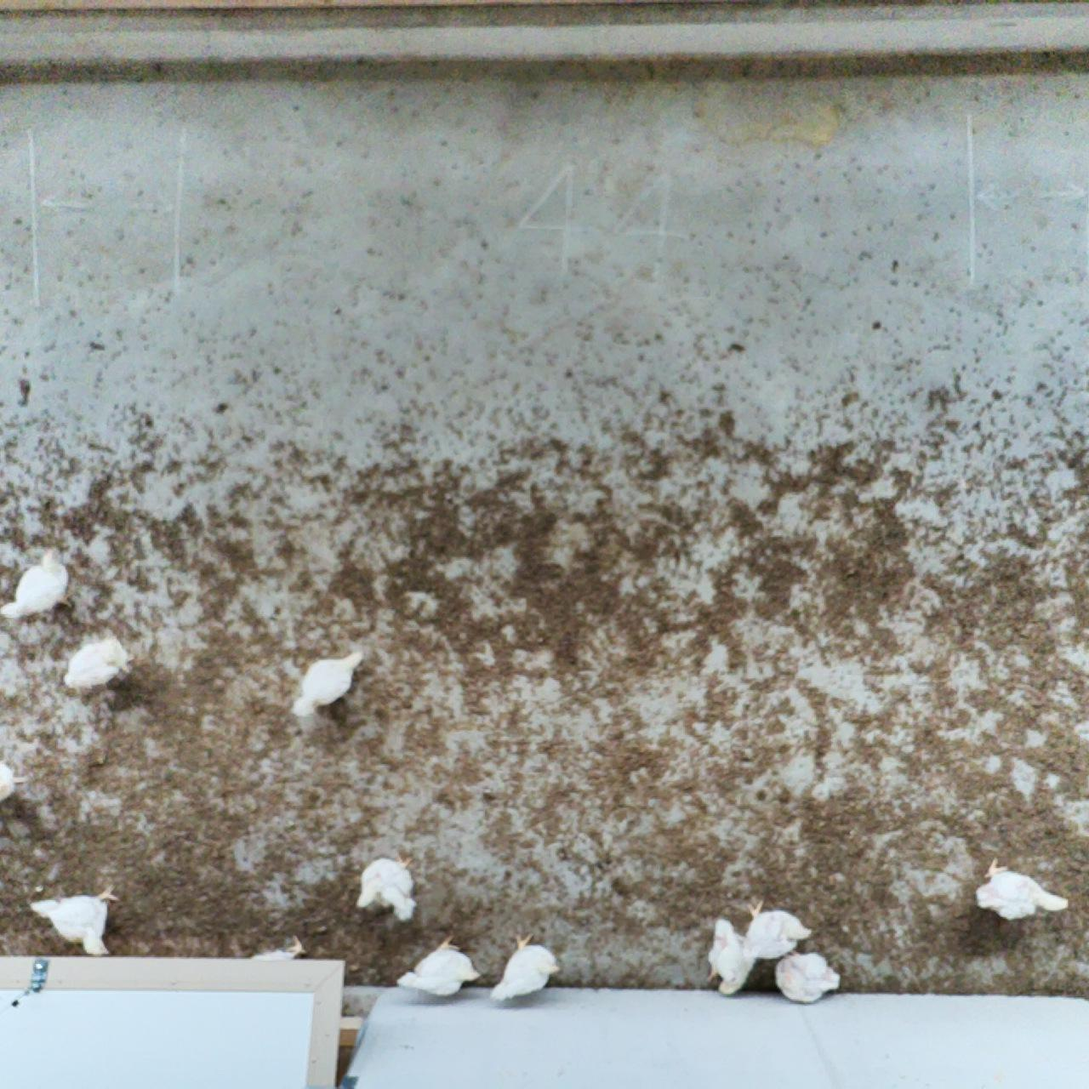chicken: (27, 883, 123, 955), (973, 855, 1072, 922), (394, 931, 485, 999), (0, 543, 79, 620), (290, 647, 366, 720), (488, 931, 563, 1003), (353, 852, 421, 925), (60, 634, 138, 692), (704, 915, 759, 997), (743, 899, 815, 961), (771, 949, 843, 1007), (248, 931, 309, 962), (0, 755, 27, 803)
